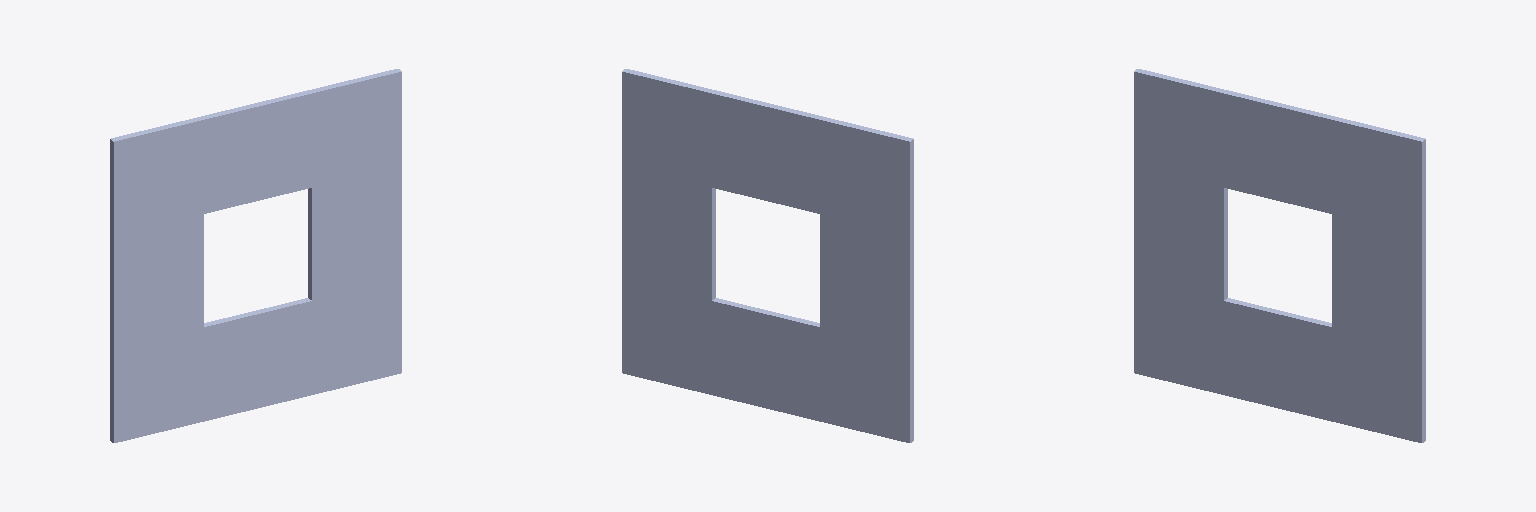
The model's file is SquarePlate.obj.
3 views of the same model, side by side, from view 1: azimuth 30°, elevation 25°; view 2: azimuth 150°, elevation 25°; view 3: azimuth 330°, elevation 25° (orthographic).
Visible parts, largest first — view 1: ig_ManifoldSolidBRep181_DC_Shell; view 2: ig_ManifoldSolidBRep181_DC_Shell; view 3: ig_ManifoldSolidBRep181_DC_Shell.
Boxes of the visible parts, box(x1,y1,x2,y2) form: ig_ManifoldSolidBRep181_DC_Shell: box(110, 69, 401, 442); ig_ManifoldSolidBRep181_DC_Shell: box(622, 69, 913, 442); ig_ManifoldSolidBRep181_DC_Shell: box(1134, 69, 1425, 442).
Bounding box in the file's own units: 4 × 4 × 0.1.